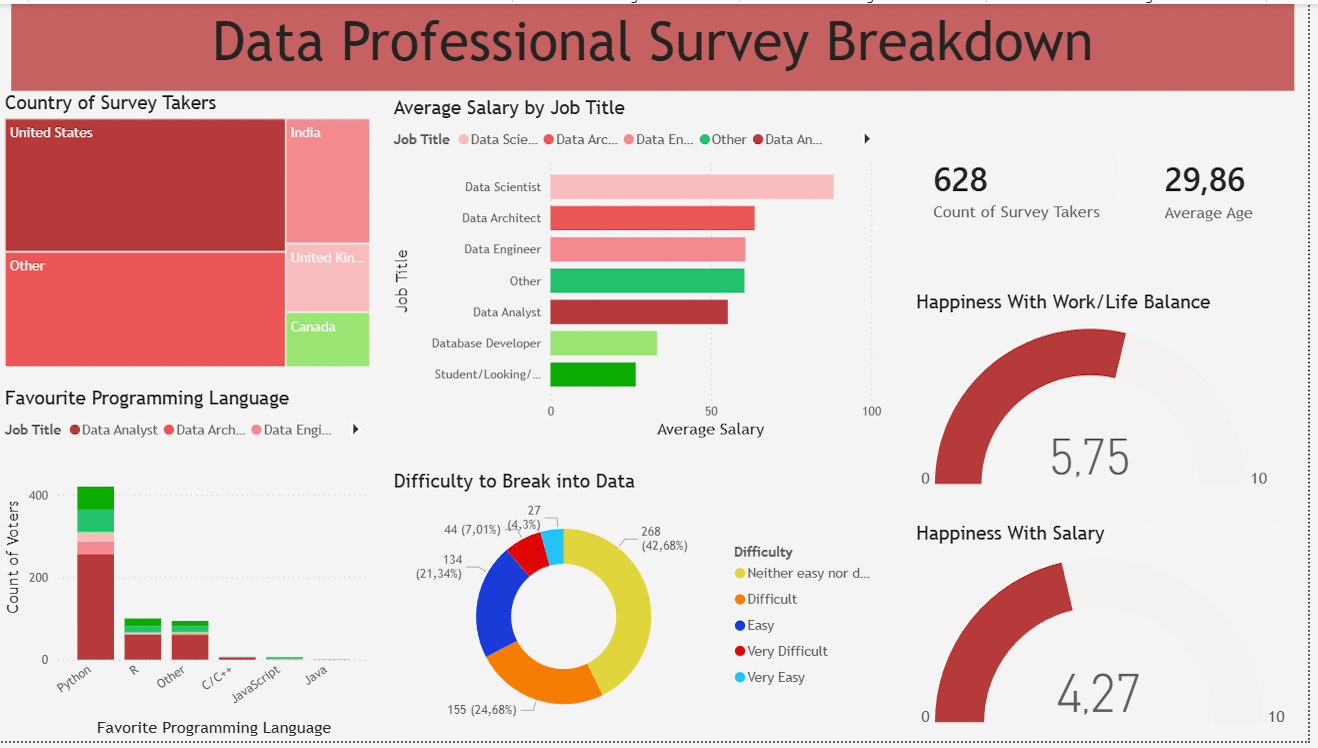

The page's visual inventory and layout, read from the dashboard file:
{"tool":"powerbi","page":{"name":"Seite 1","canvas":[1280,720],"ordinal":0},"visuals":[{"type":"textbox","box":[11,0,1255.6,85.1],"z":0},{"type":"cardVisual","fields":{"Data":["Count(Data Professional Survey.Unique ID)"]},"box":[882.9,90,225.7,177.1],"z":1000},{"type":"cardVisual","fields":{"Data":["Avg(Data Professional Survey.Q10 - Current Age)"]},"box":[1108.6,90,158.6,178.6],"z":2000},{"type":"barChart","title":"Average Salary by Job Title","fields":{"Category":["Data Professional Survey.Q1 - Which Title Best Fits your Current Role?.1"],"Y":["Avg(Data Professional Survey.Average Salary)"],"Series":["Data Professional Survey.Q1 - Which Title Best Fits your Current Role?.1"]},"box":[380,90,487.1,338.6],"z":3000},{"type":"columnChart","title":"Favourite Programming Language","fields":{"Category":["Data Professional Survey.Q5 - Favorite Programming Language.1.1"],"Series":["Data Professional Survey.Q1 - Which Title Best Fits your Current Role?.1"],"Y":["CountNonNull(Data Professional Survey.Unique ID)"]},"box":[0,374.3,367.1,345.7],"z":4000},{"type":"treemap","title":"Country of Survey Takers","fields":{"Group":["Data Professional Survey.Q11 - Which Country do you live in?.1"],"Values":["CountNonNull(Data Professional Survey.Q11 - Which Country do you live in?.1)"]},"box":[0,85.7,367.1,274.3],"z":5000},{"type":"gauge","title":"Happiness With Work/Life Balance","fields":{"Y":["Avg(Data Professional Survey.Q6 - How Happy are you in your Current Position with the following? (Work/Life Balance))"],"MinValue":["Min(Data Professional Survey.Q6 - How Happy are you in your Current Position with the following? (Work/Life Balance))1"],"MaxValue":["Max(Data Professional Survey.Q6 - How Happy are you in your Current Position with the following? (Work/Life Balance))2"]},"box":[891.4,280,358.6,210],"z":6000},{"type":"gauge","title":"Happiness With Salary","fields":{"Y":["Avg(Data Professional Survey.Q6 - How Happy are you in your Current Position with the following? (Salary))"],"MinValue":["Min(Data Professional Survey.Q6 - How Happy are you in your Current Position with the following? (Salary))1"],"MaxValue":["Max(Data Professional Survey.Q6 - How Happy are you in your Current Position with the following? (Salary))2"]},"box":[891.4,505.7,375.7,214.3],"z":7000},{"type":"donutChart","title":"Difficulty to Break into Data","fields":{"Category":["Data Professional Survey.Q7 - How difficult was it for you to break into Data?"],"Y":["CountNonNull(Data Professional Survey.Q7 - How difficult was it for you to break into Data?)"]},"box":[380,454.3,485.7,265.7],"z":8000}]}

Visuals, with their boxes in screenshot pixels (x1, y1, x2, y2), scaled from the page's 1280x720 canvas onto the 1318x748 screenshot:
textbox: 11/0/1304/88
cardVisual - Count(Data Professional Survey.Unique ID): 909/94/1142/277
cardVisual - Avg(Data Professional Survey.Q10 - Current Age): 1142/94/1305/279
"Average Salary by Job Title" barChart: 391/94/893/445
"Favourite Programming Language" columnChart: 0/389/378/747
"Country of Survey Takers" treemap: 0/89/378/374
"Happiness With Work/Life Balance" gauge: 918/291/1287/509
"Happiness With Salary" gauge: 918/525/1305/747
"Difficulty to Break into Data" donutChart: 391/472/891/747
